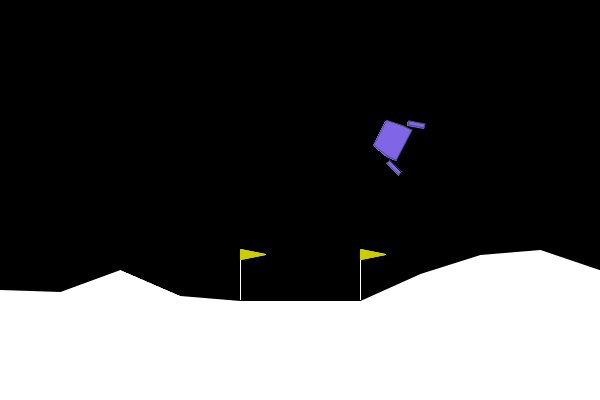lander: (364, 106, 427, 177)
